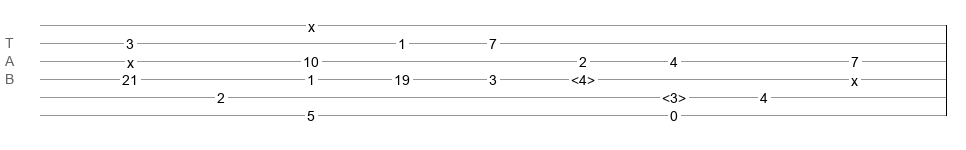0: (670, 108, 678, 118)
1: (307, 72, 315, 82), (398, 36, 406, 46)
10: (303, 54, 319, 64)
19: (394, 72, 410, 82)
2: (217, 90, 225, 100), (579, 54, 587, 64)
21: (122, 72, 138, 82)
3: (126, 36, 134, 46), (489, 72, 497, 82)
4: (670, 54, 678, 64), (760, 90, 768, 100)
5: (307, 108, 315, 118)
7: (489, 36, 497, 46), (851, 54, 859, 64)
harmonic: (571, 72, 595, 82), (662, 90, 686, 100)
x: (127, 55, 134, 63), (308, 19, 315, 27), (851, 73, 858, 81)
